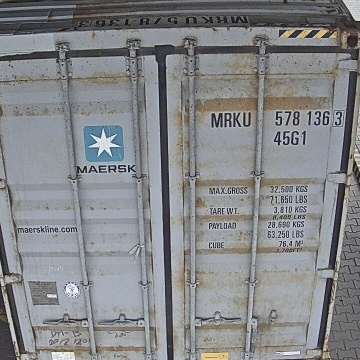serial_id: (211, 110, 344, 126)
